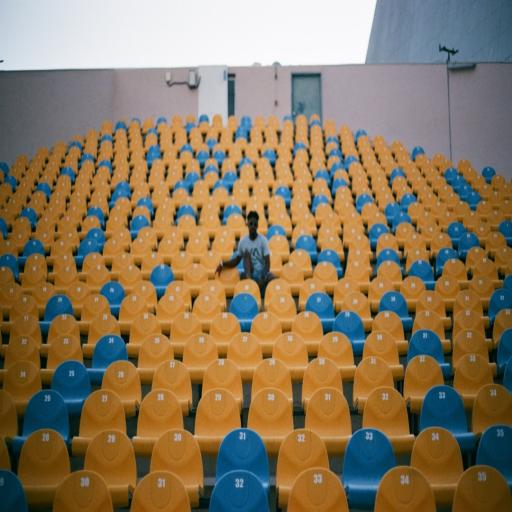face: (248, 217, 258, 239)
